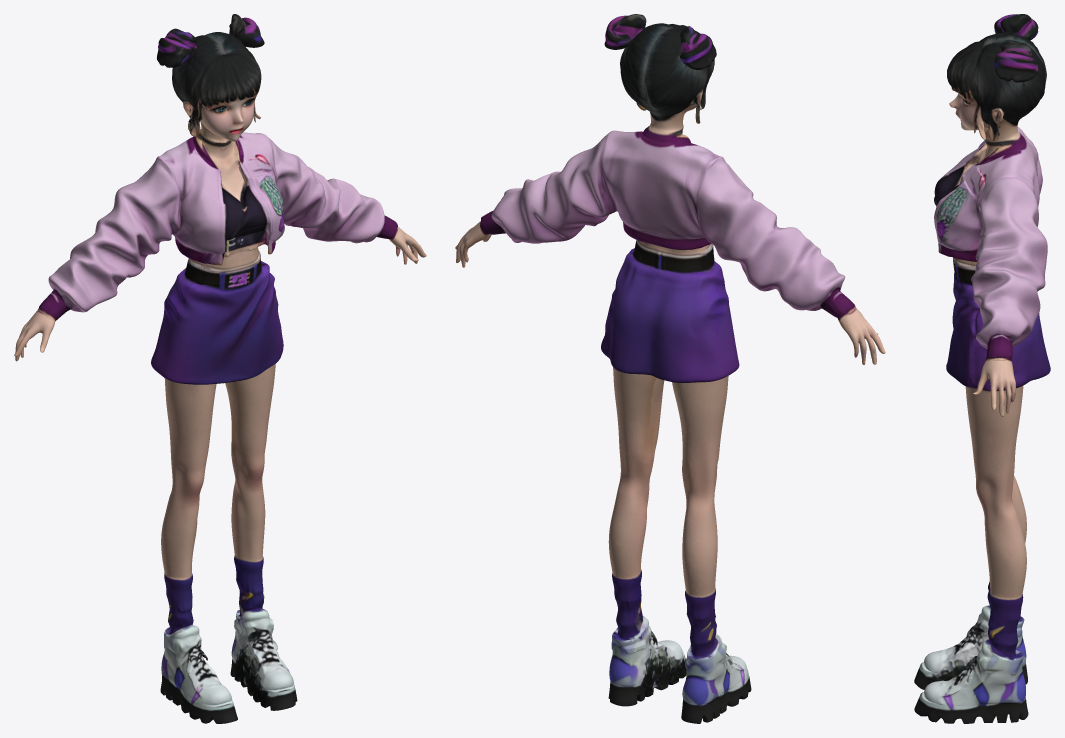
File: civilian-fashion.glb
The picture shows the model from 3 angles, left to right: view 1: azimuth 30°, elevation 25°; view 2: azimuth 150°, elevation 25°; view 3: azimuth 270°, elevation 25°; orthographic projection. The views are drawn at different scales.
Visible parts, largest first — view 1: tripo_node_f3bc6593-3ce3-47f9-a002-c11ab3c9a4cb; view 2: tripo_node_f3bc6593-3ce3-47f9-a002-c11ab3c9a4cb; view 3: tripo_node_f3bc6593-3ce3-47f9-a002-c11ab3c9a4cb.
Part boxes in pixels (left/top/right/bottom): tripo_node_f3bc6593-3ce3-47f9-a002-c11ab3c9a4cb: left=14, top=14, right=426, bottom=723; tripo_node_f3bc6593-3ce3-47f9-a002-c11ab3c9a4cb: left=455, top=14, right=885, bottom=723; tripo_node_f3bc6593-3ce3-47f9-a002-c11ab3c9a4cb: left=914, top=14, right=1050, bottom=723.
Size of the model in its own units: 0.655 by 1 by 0.1844.
1 material, 1 textured.
